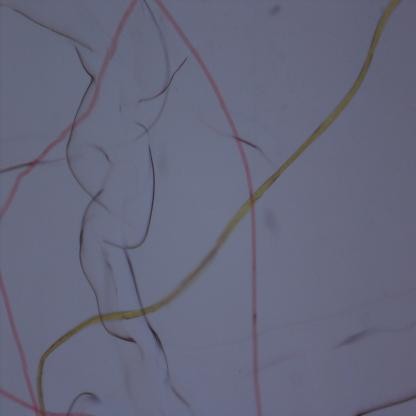Background material: (65, 62, 182, 313), (100, 323, 190, 404), (8, 4, 92, 85), (337, 316, 398, 350), (357, 388, 416, 414), (244, 132, 272, 172), (258, 209, 284, 251), (70, 384, 100, 416), (264, 2, 287, 24), (0, 159, 32, 173)
Microfibre: (37, 0, 401, 413), (156, 0, 264, 415), (0, 0, 137, 220), (0, 273, 39, 416), (0, 388, 90, 416)
